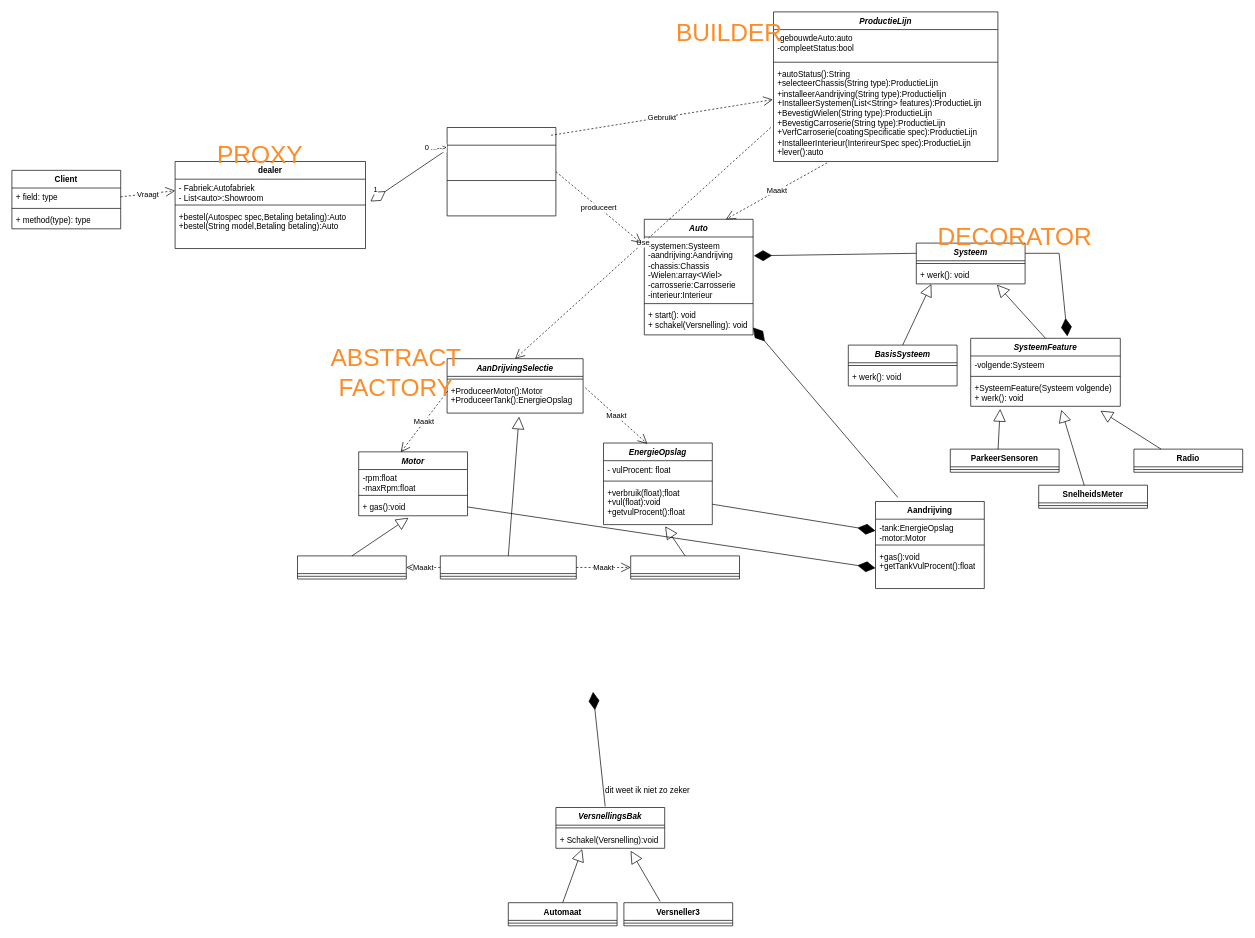
Some shapes in this 1255 by 938 pixel diagram are drawn without their labels. Each missing label, with the centre of its shape:
Accu: point 685,567
autofabriek: point 501,171
ElektrischeAandrijvingSelectie: point 508,567
ElektroMotor: point 351,567
